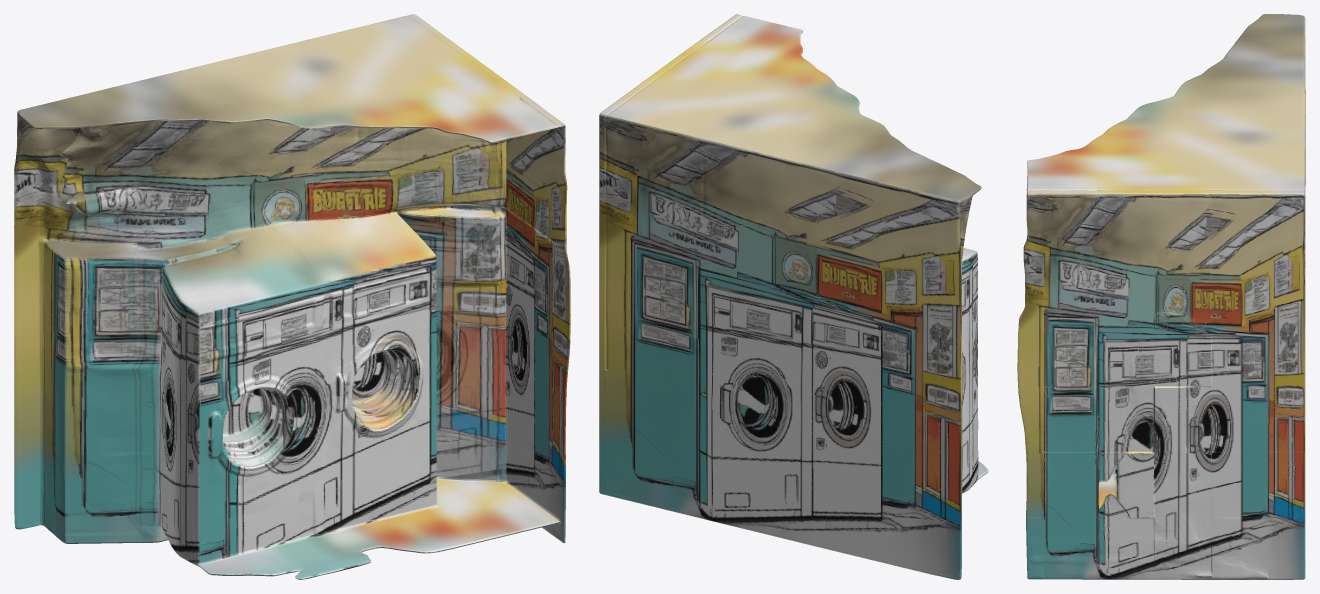
File: washer.glb
The picture shows the model from 3 angles, left to right: view 1: azimuth 30°, elevation 25°; view 2: azimuth 150°, elevation 25°; view 3: azimuth 270°, elevation 25°; orthographic projection. The views are drawn at different scales.
Visible parts, largest first — view 1: washer; view 2: washer; view 3: washer.
Boxes of the visible parts, x1=… form: washer: x1=14, y1=14, x2=570, y2=579; washer: x1=599, y1=14, x2=988, y2=579; washer: x1=1017, y1=14, x2=1305, y2=579.
Bounding box in the file's own units: 1.88 × 1.87 × 1.26.
Materials: 1 (1 with a texture image).
